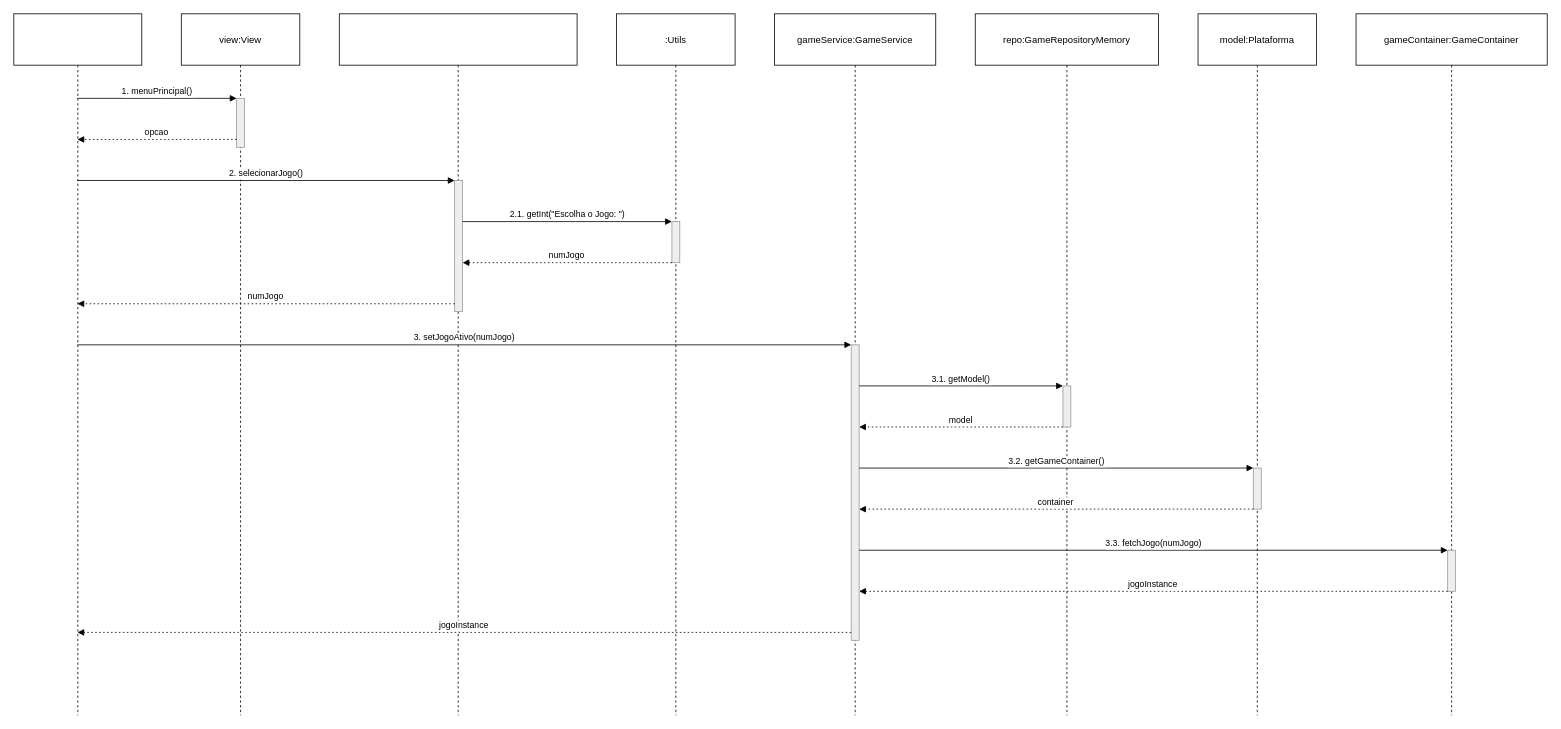
This 1561x729 diagram has some shape labels left out. The box of each missing label's shape, as (x1, y1, x2, y2) in pixels:
controller:Controller: (13, 13, 142, 715)
gameSelectionView:GameSelectionView: (339, 13, 577, 715)
